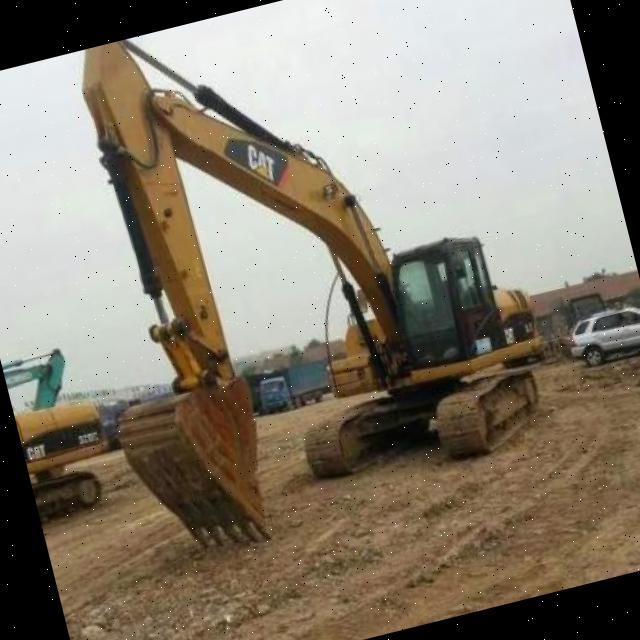Excavator: (23, 0, 570, 564)
